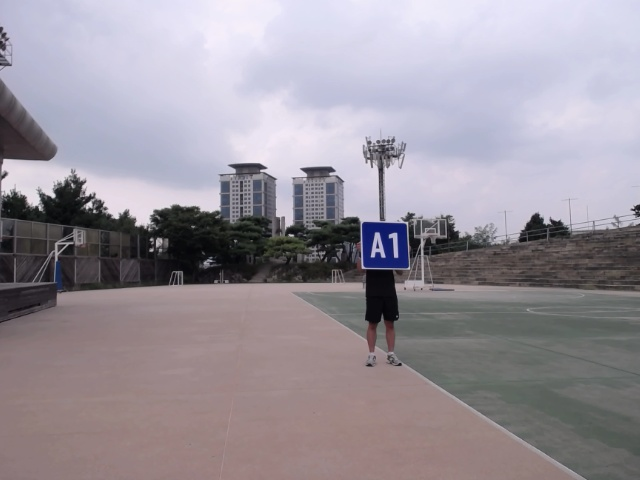delivery_a1: (361, 221, 410, 269)
